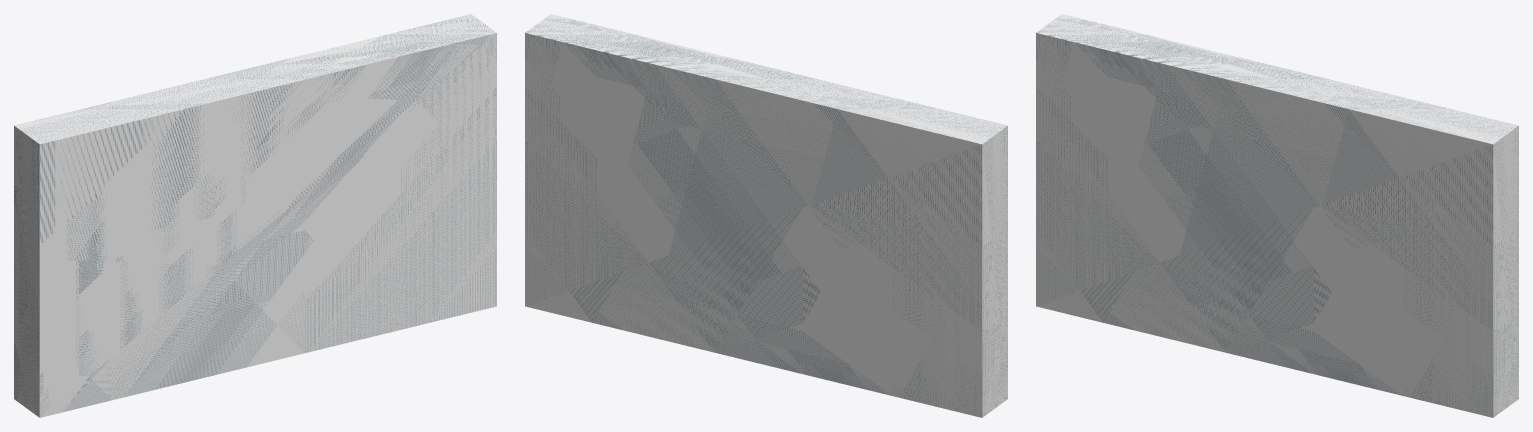
File: external_wall_3d.obj
3 views of the same model, side by side, from view 1: azimuth 30°, elevation 25°; view 2: azimuth 150°, elevation 25°; view 3: azimuth 330°, elevation 25° (orthographic).
Visible parts, largest first — view 1: Mesh1 Model; view 2: Mesh1 Model; view 3: Mesh1 Model.
Boxes of the visible parts, box(x1,y1,x2,y2) form: Mesh1 Model: box(14, 14, 496, 417); Mesh1 Model: box(525, 14, 1007, 417); Mesh1 Model: box(1036, 14, 1518, 417).
Bounding box in the file's own units: 5.25 × 3 × 0.5123.
